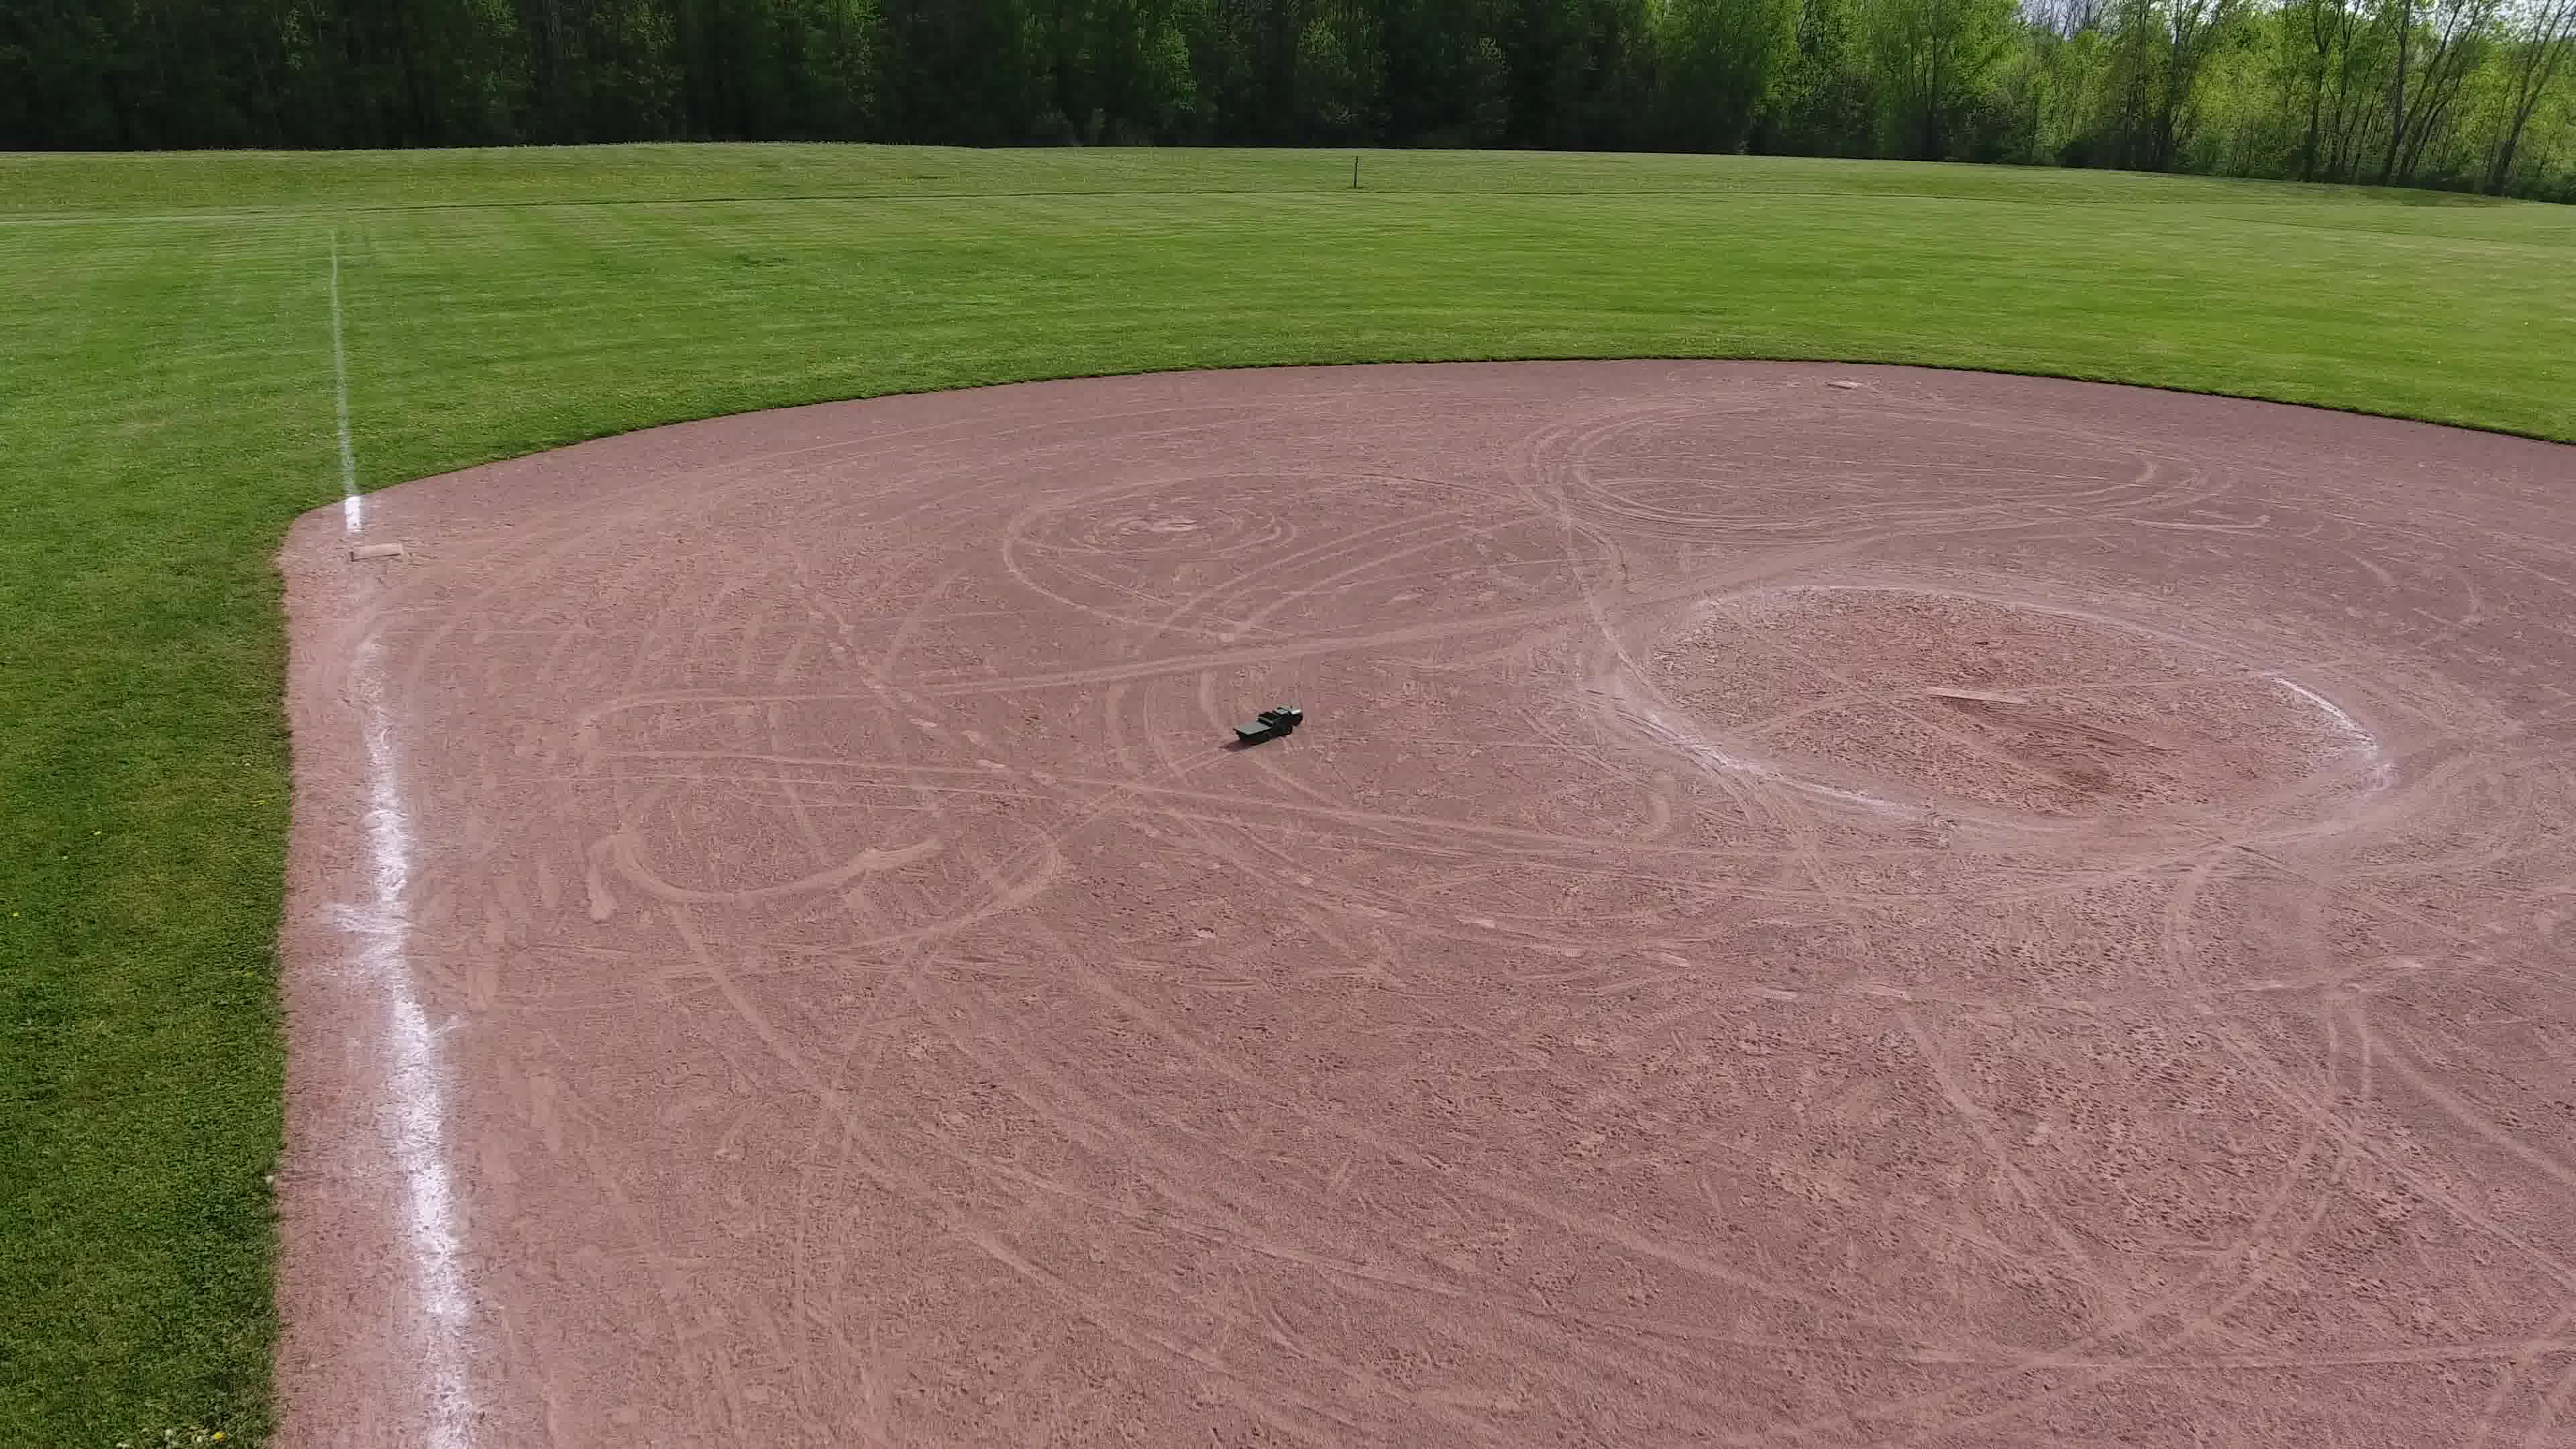transporter9: (1230, 701, 1306, 747)
